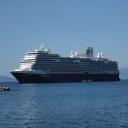cruises: (9, 43, 122, 85)
